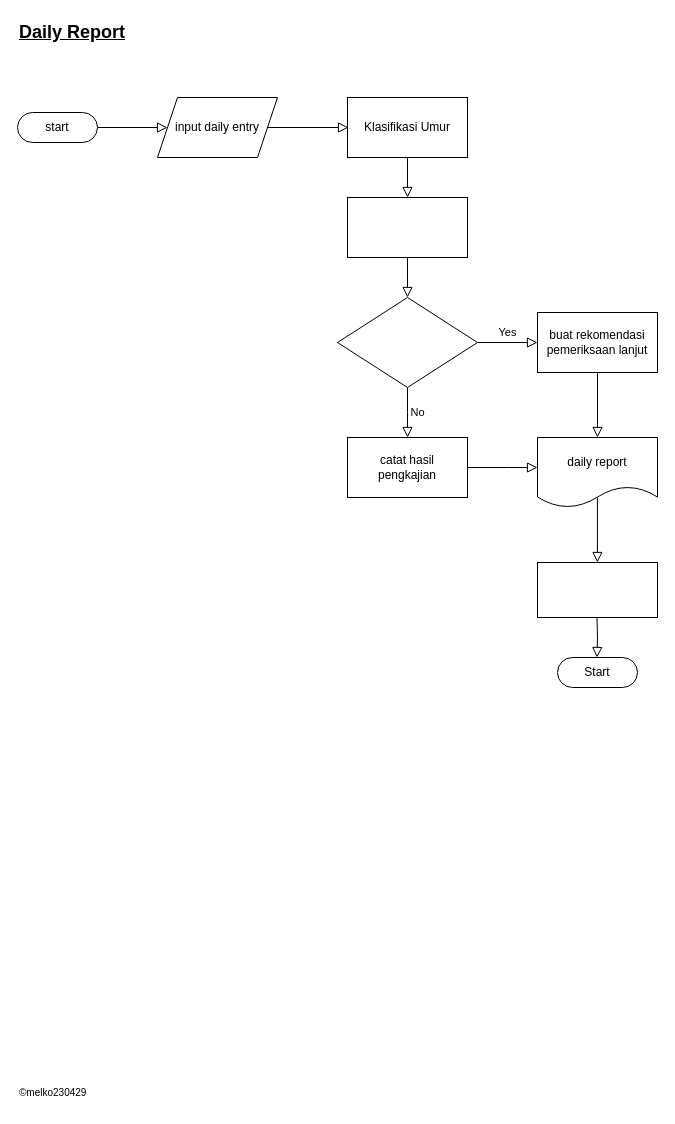
The diagram is 675 pixels wide and 1124 high, and some of its shapes have lost their labels. Here are the shapes that lost their labels. From the top down, the box of each, then its label:
(346, 196, 468, 258): Pengkajian tumbuh kembang
(336, 296, 478, 388): apakah hasil abnormal ?
(536, 562, 658, 618): upload data ke user parents
